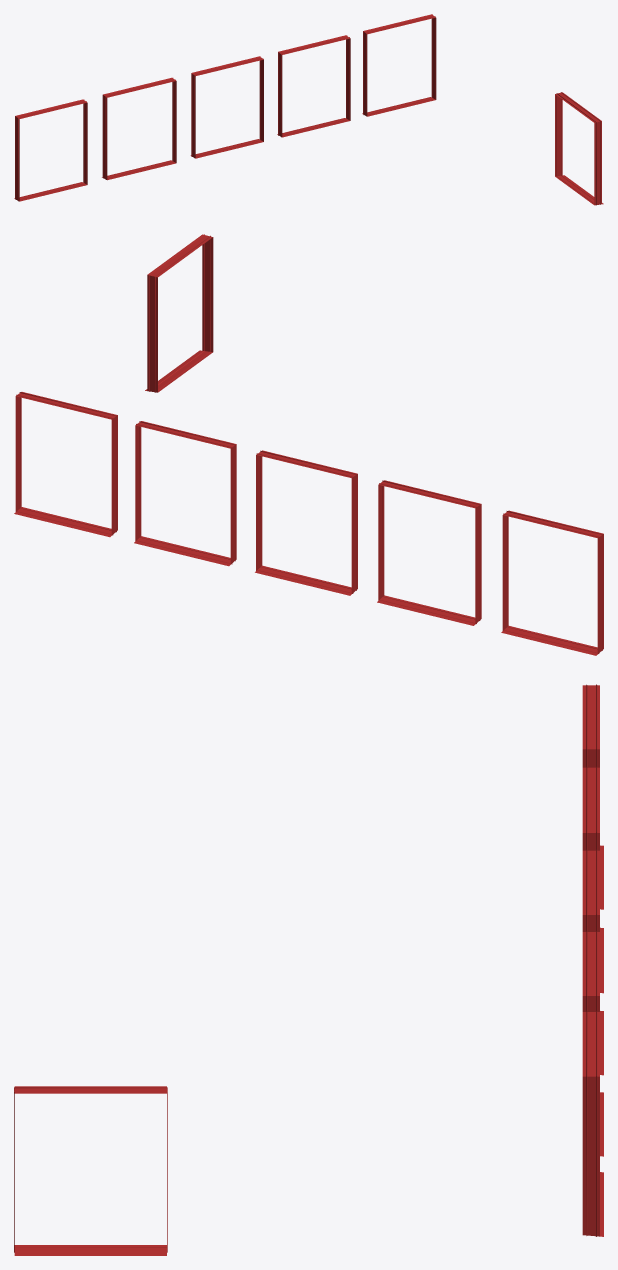
The model's file is SM_Wall_Exterior.fbx.
The picture shows the model from 3 angles, top to bottom: view 1: azimuth 30°, elevation 25°; view 2: azimuth 150°, elevation 25°; view 3: azimuth 270°, elevation 25°; orthographic projection. The views are drawn at different scales.
Parts seen in each view (by area): view 1: SM_Wall_Exterior; view 2: SM_Wall_Exterior; view 3: SM_Wall_Exterior.
Boxes of the visible parts, <box> form: SM_Wall_Exterior: <box>14,14,603,205</box>; SM_Wall_Exterior: <box>14,234,603,655</box>; SM_Wall_Exterior: <box>14,684,603,1255</box>.
Bounding box in the file's own units: 1370 × 251 × 832.
